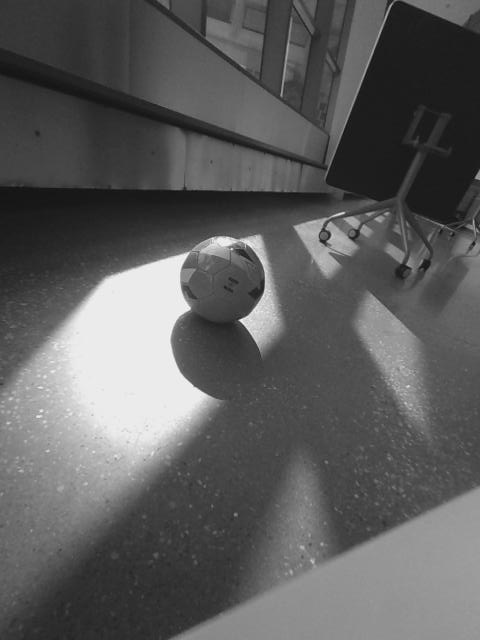ball: (179, 234, 267, 321)
